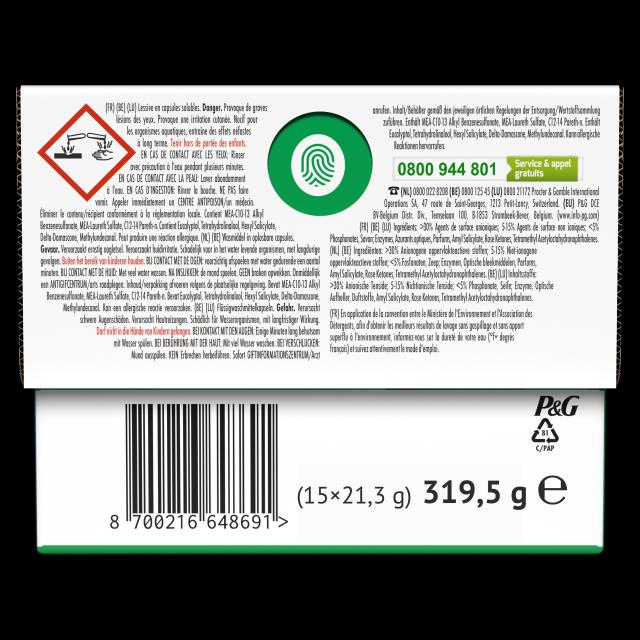GHS_Symbol_CORROSION: (38, 102, 135, 202)
